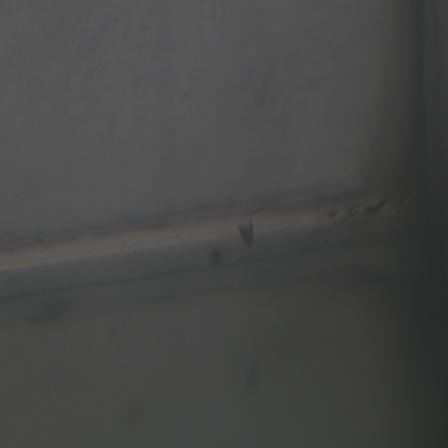Jentik-Nyamuk: (234, 217, 259, 248), (358, 194, 390, 217)
